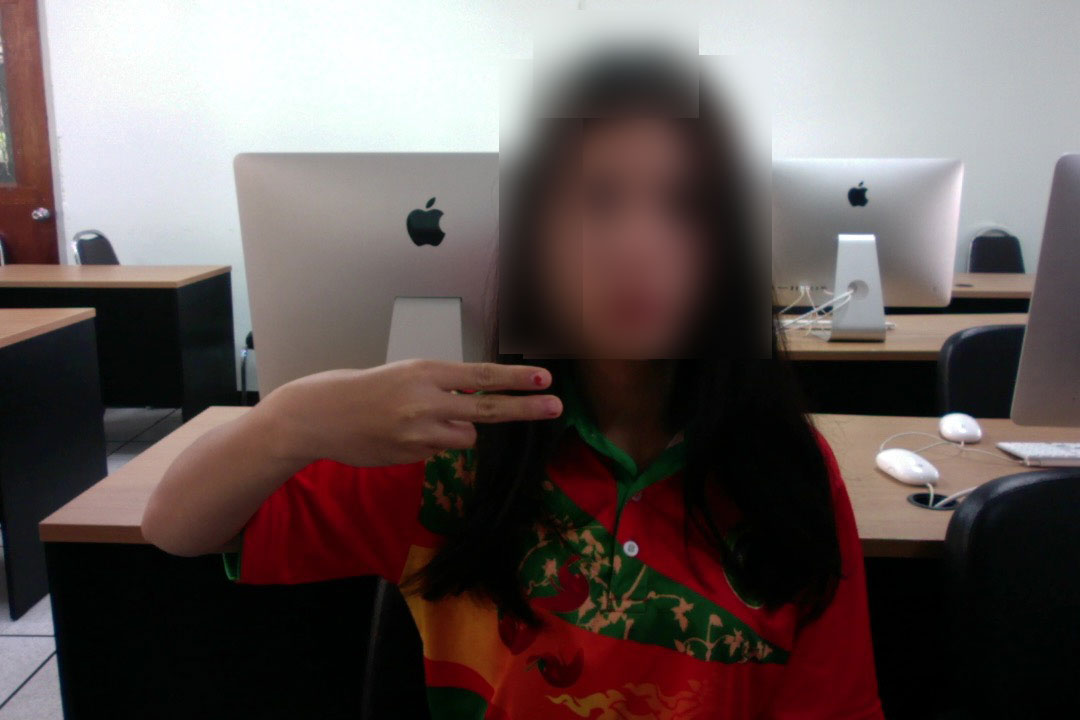hor: (314, 347, 567, 474)
